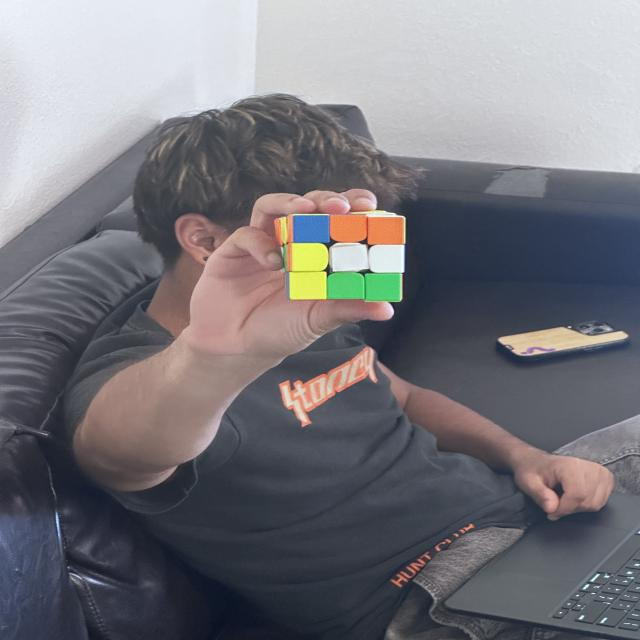sticker: (328, 212, 369, 245), (329, 241, 370, 274), (366, 214, 406, 247), (288, 242, 329, 273), (292, 213, 331, 245), (326, 271, 366, 301), (288, 270, 328, 300), (363, 272, 402, 302), (367, 244, 406, 274)
